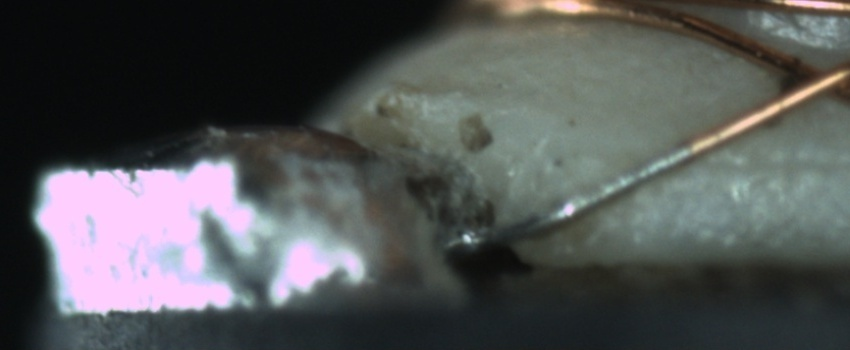CL: (765, 44, 849, 110)
DL: (673, 134, 849, 197)
TS: (468, 138, 689, 253)
